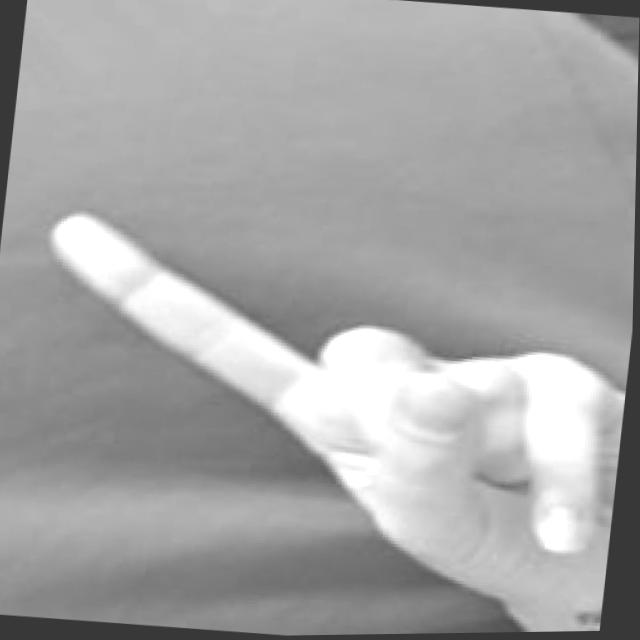I: (3, 197, 635, 640)
